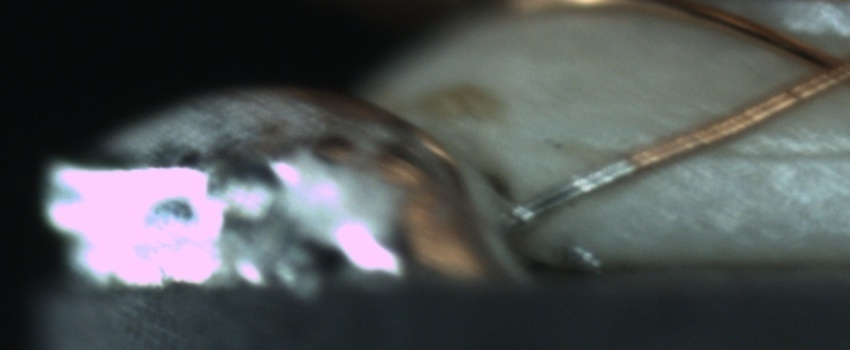CL: (780, 35, 849, 105)
DL: (687, 121, 850, 187)
TS: (511, 157, 640, 223)
